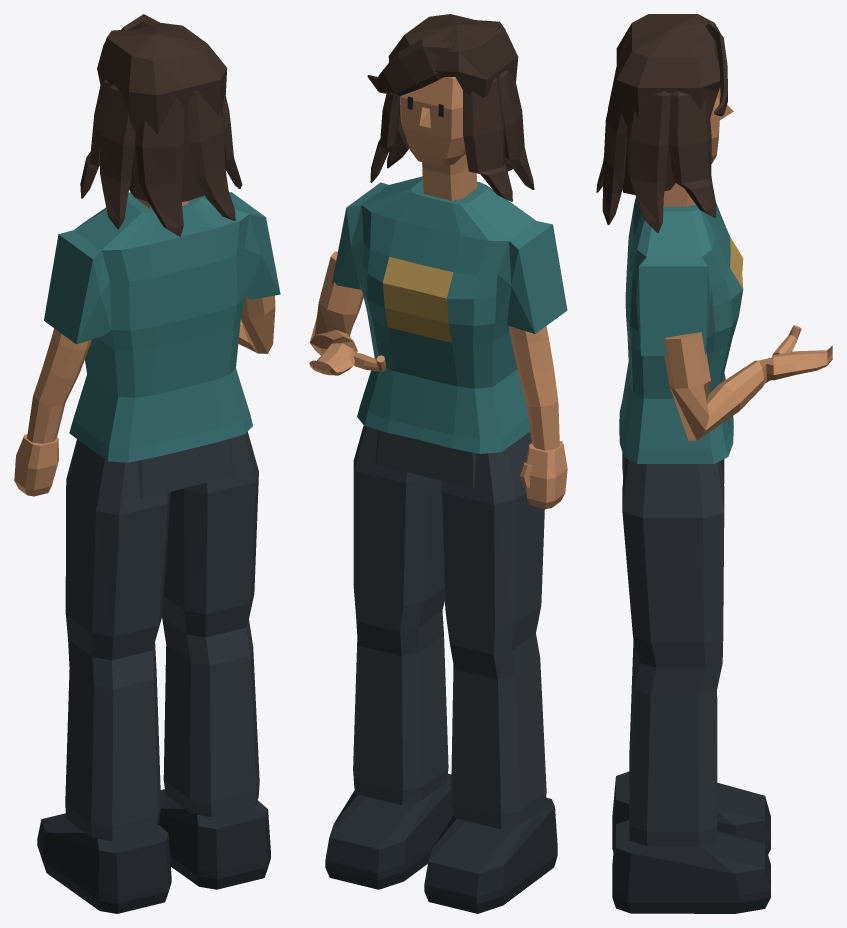
File: lwf_attendee_female_food_hold_v1.glb
The picture shows the model from 3 angles, left to right: view 1: azimuth 30°, elevation 25°; view 2: azimuth 150°, elevation 25°; view 3: azimuth 270°, elevation 25°; orthographic projection.
Parts seen in each view (by area): view 1: Attendee_female_food_hold; view 2: Attendee_female_food_hold; view 3: Attendee_female_food_hold.
Boxes of the visible parts, x1,y1,x2,y2 form: Attendee_female_food_hold: [14, 14, 280, 913]; Attendee_female_food_hold: [309, 14, 567, 913]; Attendee_female_food_hold: [596, 14, 832, 913].
Size of the model in its own units: 0.5453 by 1.75 by 0.4449.
Materials: 1 (1 with a texture image).
